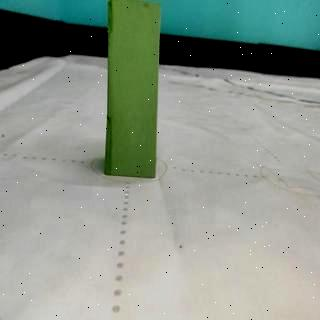greenbox: (105, 0, 162, 180)
